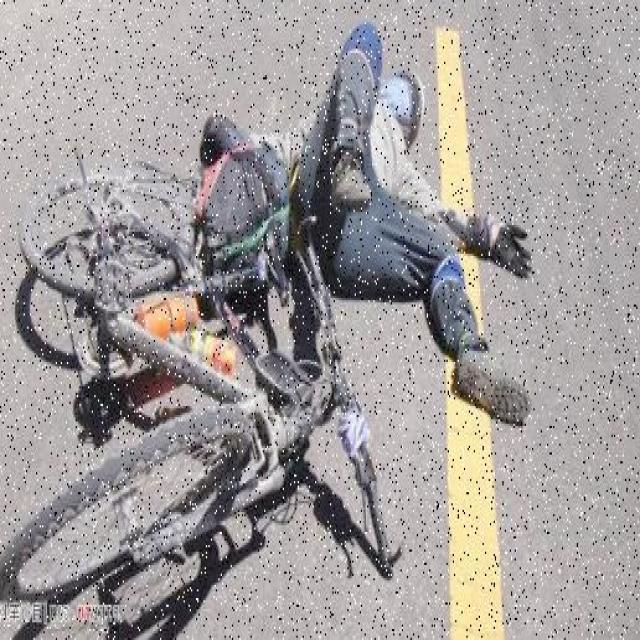fall: (325, 7, 520, 395)
